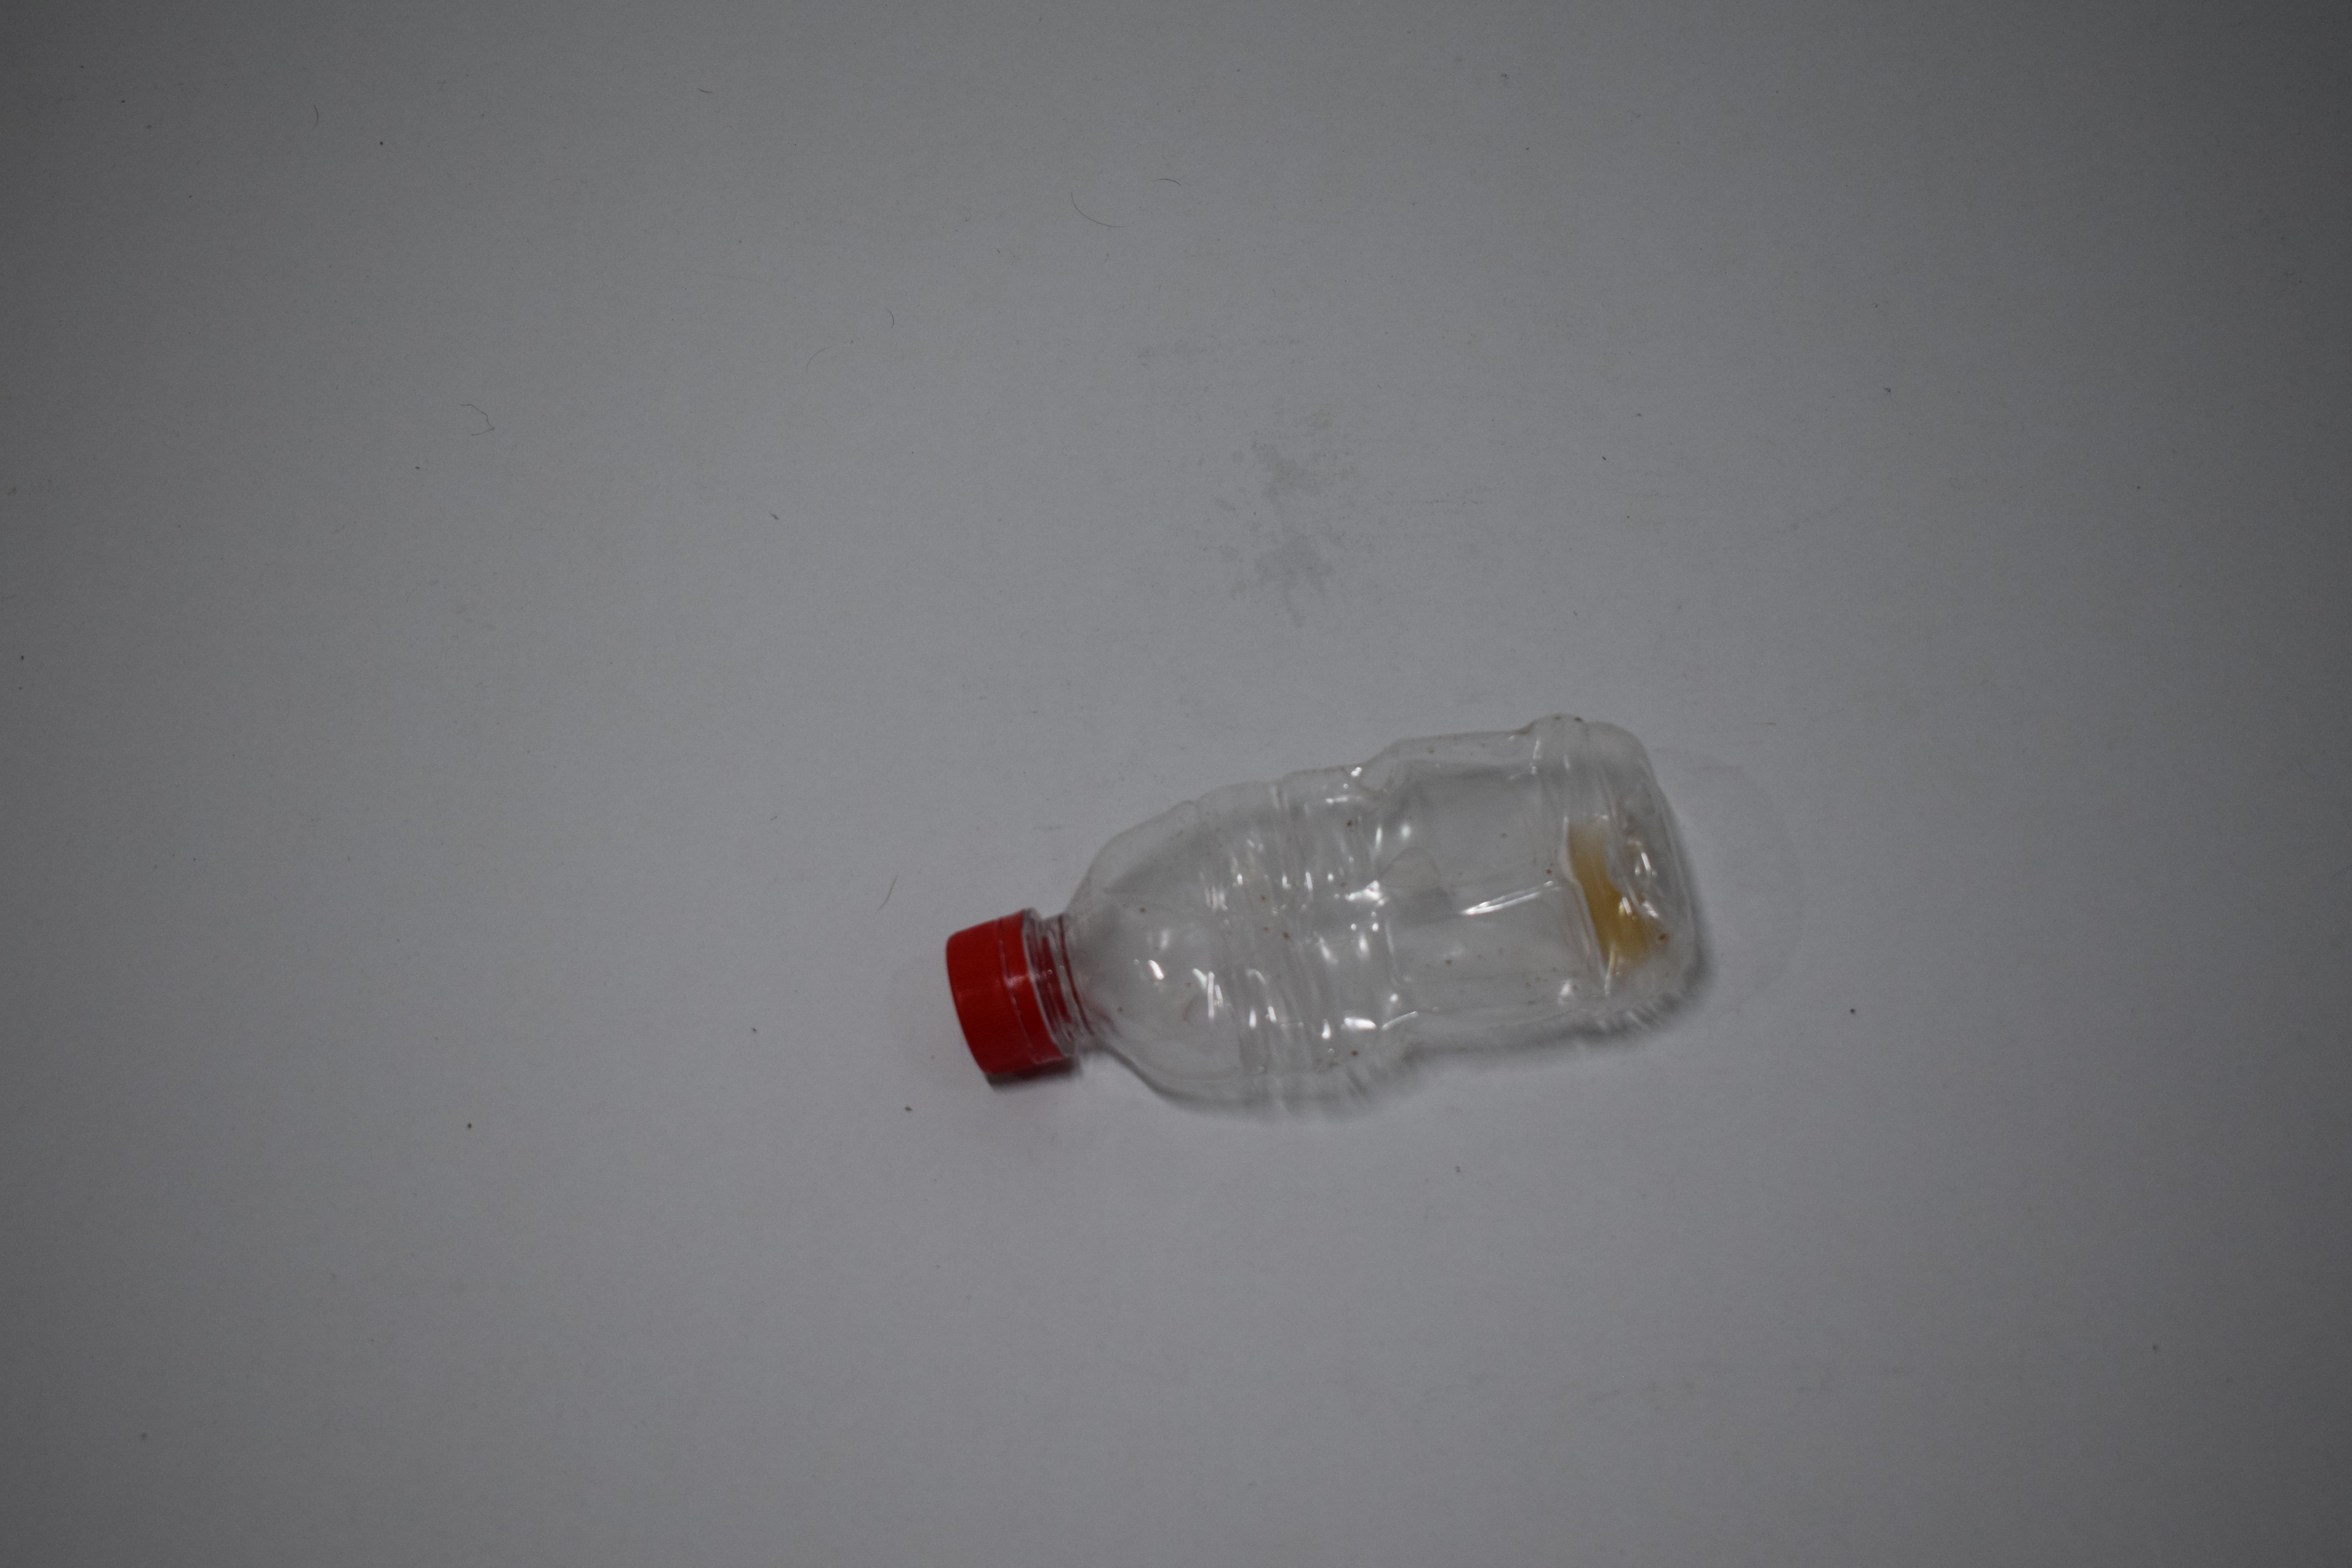bottle: (0, 0, 528, 336)
